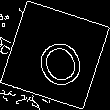O_NW: (24, 22, 86, 88)
